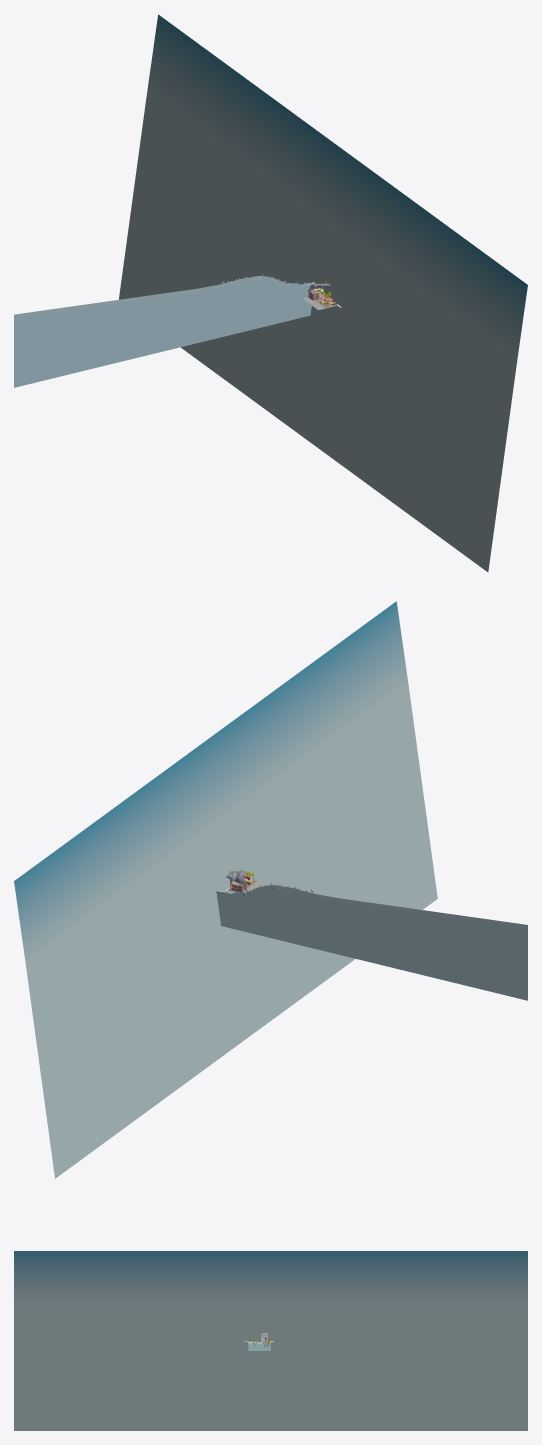
Rendered from Angela_Enviroment_Flattened.glb.
3 views of the same model, one above another, from view 1: azimuth 30°, elevation 25°; view 2: azimuth 150°, elevation 25°; view 3: azimuth 270°, elevation 25° (orthographic). The views are drawn at different scales.
Visible parts, largest first — view 1: Background_Gradient_Tom.001, background; view 2: Background_Gradient_Tom.001, background; view 3: Background_Gradient_Tom.001.
Boxes of the visible parts, box(x1,y1,x2,y2) form: Background_Gradient_Tom.001: box(119, 14, 527, 572); background: box(14, 274, 314, 387); Background_Gradient_Tom.001: box(14, 601, 437, 1178); background: box(216, 883, 527, 1000); Background_Gradient_Tom.001: box(14, 1251, 527, 1430).
Bounding box in the file's own units: 500 × 283 × 681.
